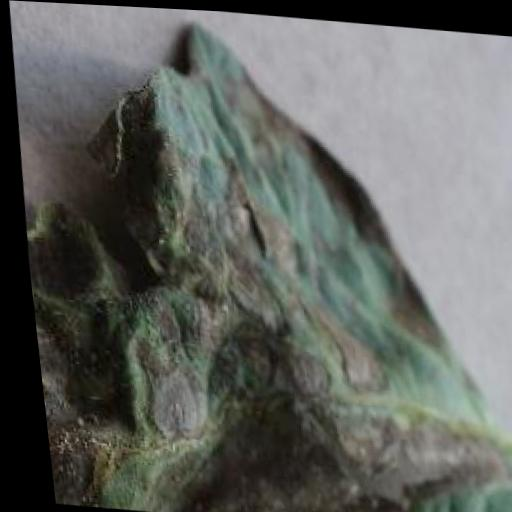Early Blight: (0, 2, 512, 512)
